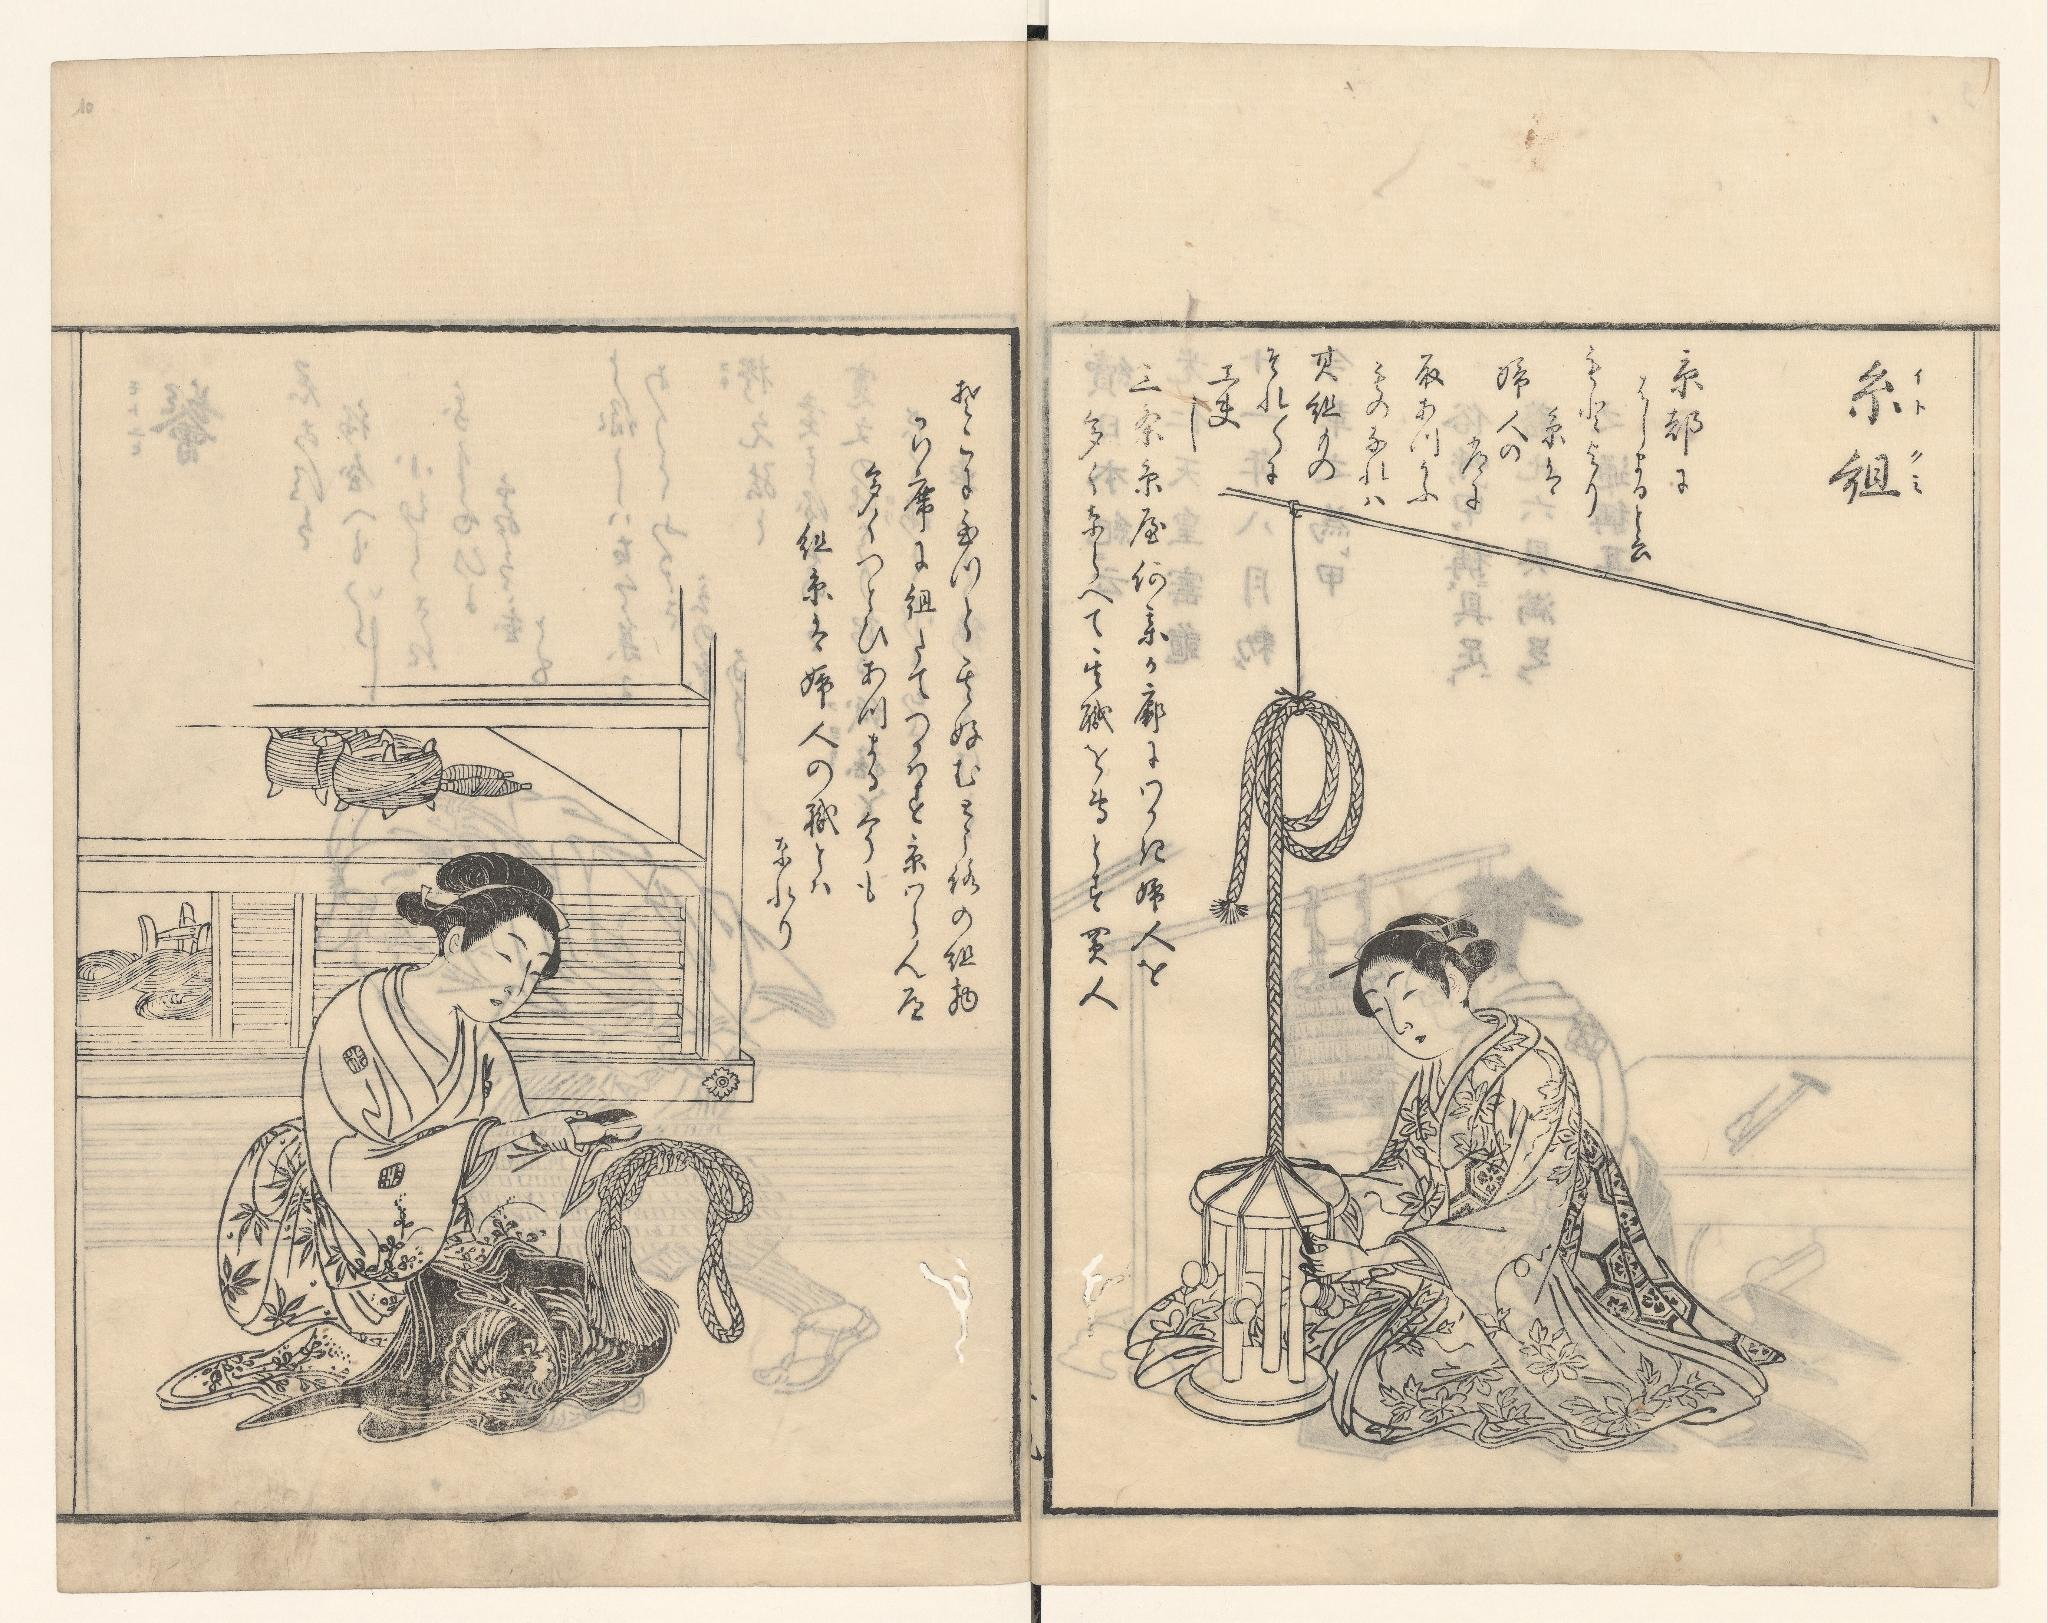MainZone-Character: (1825, 441, 1943, 507), (1842, 358, 1933, 429)
MainZone-Ruby: (1905, 364, 1930, 424), (1907, 446, 1932, 499)
